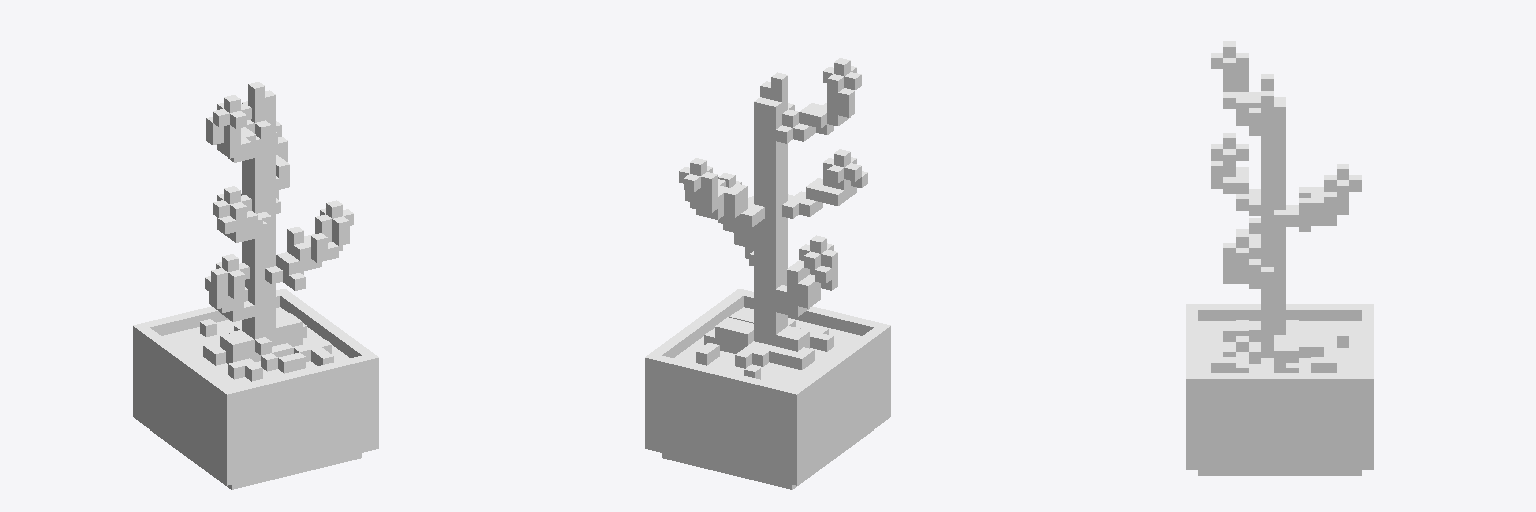
File: Project1day-2.obj
3 views of the same model, side by side, from view 1: azimuth 30°, elevation 25°; view 2: azimuth 150°, elevation 25°; view 3: azimuth 270°, elevation 25° (orthographic).
Visible parts, largest first — view 1: object 1; view 2: object 1; view 3: object 1.
Part boxes in pixels (x1,y1,x2,y2): object 1: (133, 82, 378, 489); object 1: (645, 58, 890, 489); object 1: (1186, 41, 1373, 475).
Size of the model in its own units: 1.4 by 3.3 by 1.5.